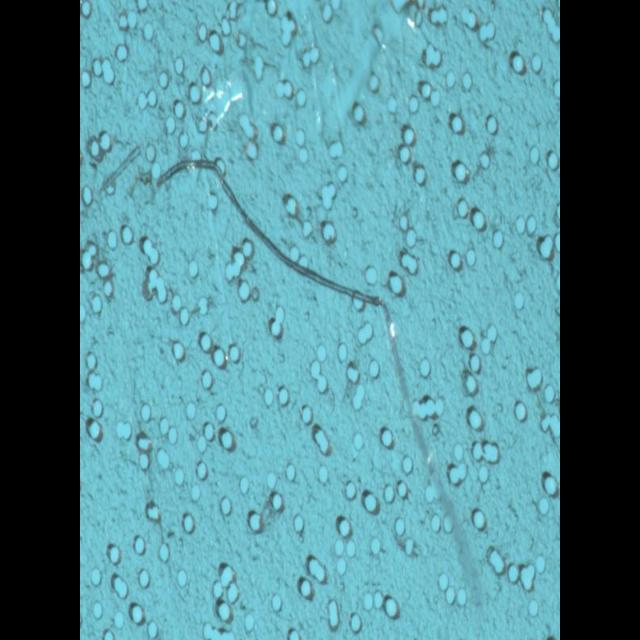Fibre: (152, 148, 488, 614)
